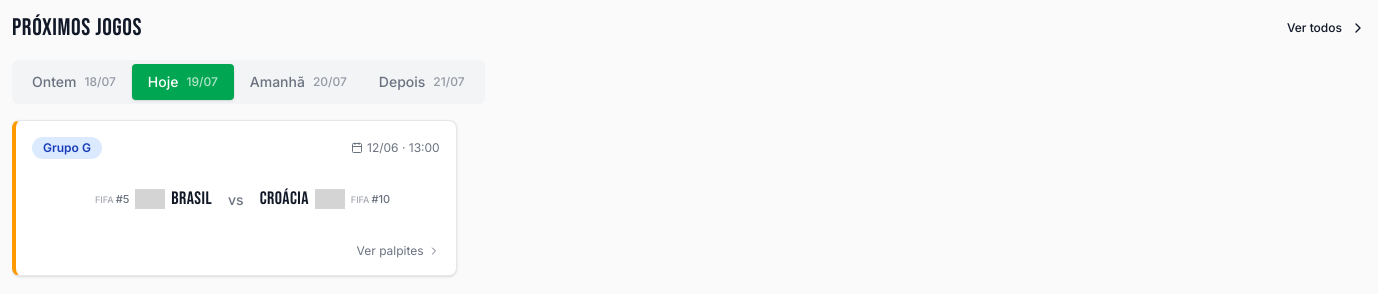
it: ProximosJogosTabs › troca para os jogos de Amanhã ao clicar na aba
The width and height of the screenshot is (1378, 294).
Click the tab "Amanhã 20/07" at (298, 82), box [234,66,363,98]
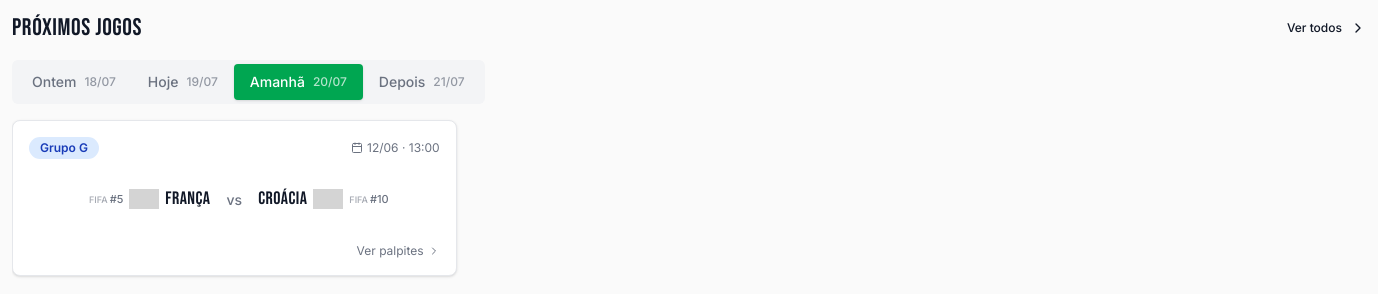
Now the text "França" is shown, box [165,188,211,210]
Now the link "Brasil" is gone
